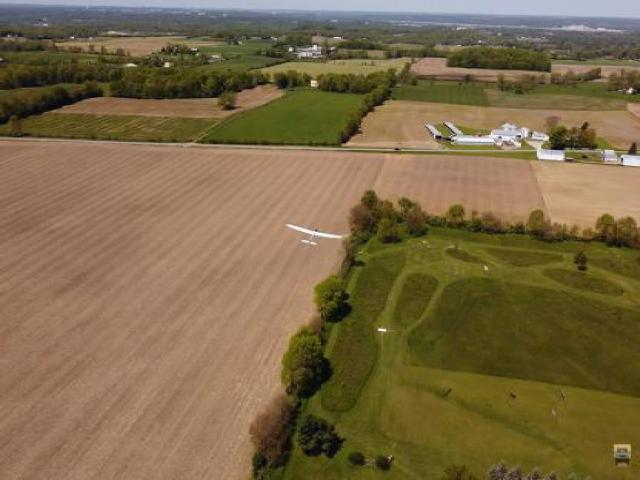uav: (280, 214, 348, 256)
